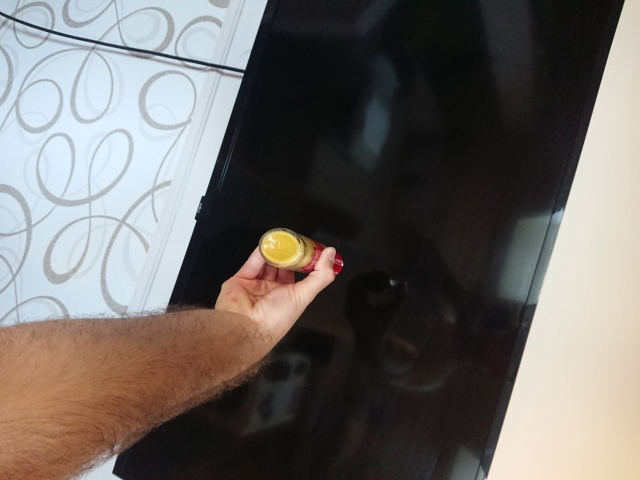Kotanyi Curry Spices Mix 70g: (257, 226, 347, 282)
